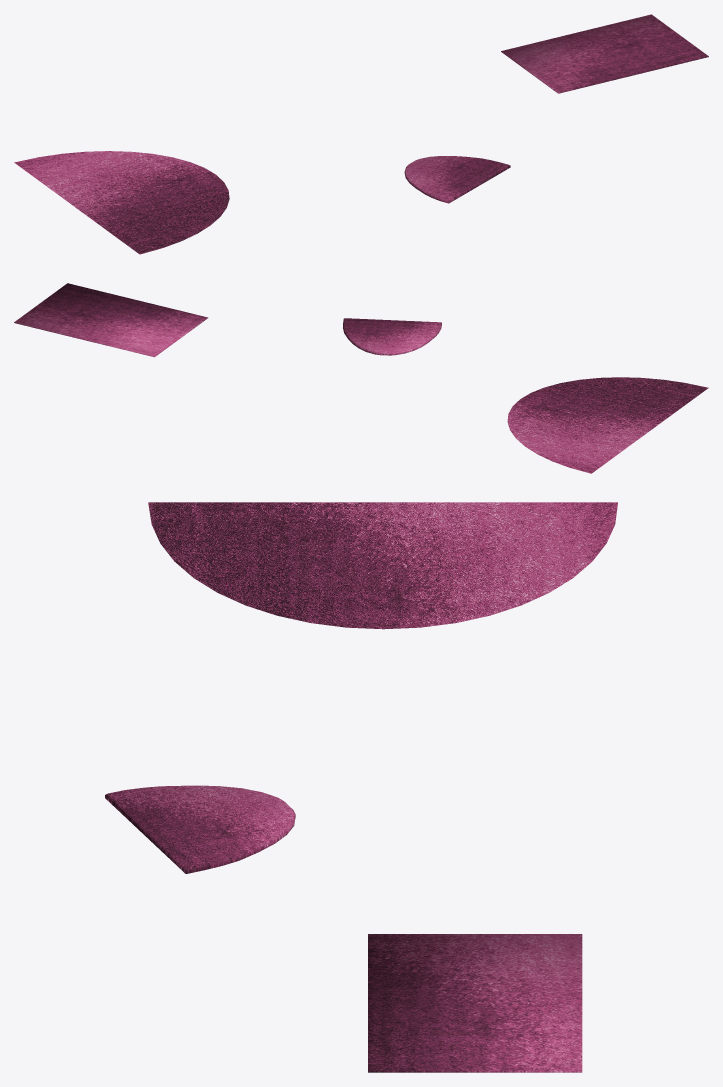
The model's file is carpet.obj.
3 views of the same model, one above another, from view 1: azimuth 30°, elevation 25°; view 2: azimuth 150°, elevation 25°; view 3: azimuth 270°, elevation 25° (orthographic). The views are drawn at different scales.
Visible parts, largest first — view 1: carpets_Combined_Mesh_(root:_scene).001; view 2: carpets_Combined_Mesh_(root:_scene).001; view 3: carpets_Combined_Mesh_(root:_scene).001.
Part boxes in pixels (left/top/right/bottom): carpets_Combined_Mesh_(root:_scene).001: left=14, top=14, right=708, bottom=254; carpets_Combined_Mesh_(root:_scene).001: left=14, top=283, right=708, bottom=473; carpets_Combined_Mesh_(root:_scene).001: left=105, top=502, right=617, bottom=1072.
Bounding box in the file's own units: 42.36 × 0.9689 × 16.05.
Materials: 1 (1 with a texture image).
